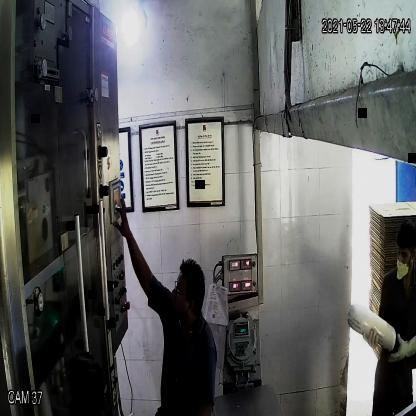goggles: (173, 278, 199, 304)
